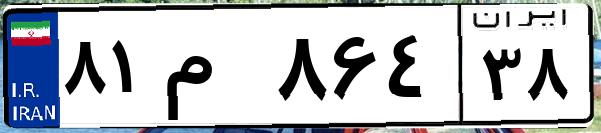1: (110, 28, 158, 98)
3: (475, 38, 525, 113)
4: (385, 28, 445, 110)
6: (330, 28, 385, 110)
8: (270, 28, 330, 110), (57, 26, 110, 100), (525, 38, 570, 115)
م: (158, 20, 270, 120)
